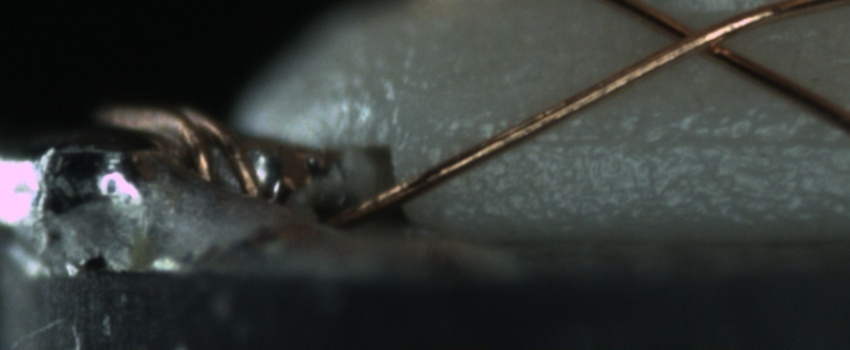CL: (650, 9, 747, 66)
DL: (448, 105, 849, 167)
TE: (92, 91, 266, 201)
